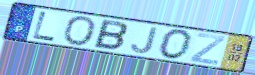B: (91, 18, 129, 52)
J: (130, 26, 160, 55)
L: (31, 10, 58, 43)
O: (157, 28, 195, 62), (62, 16, 98, 48)
Z: (188, 32, 227, 66)
